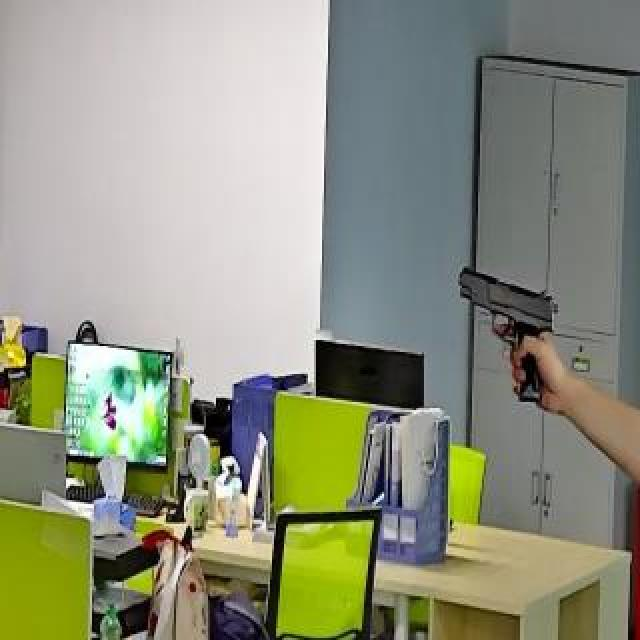Guns: (450, 242, 580, 436)
